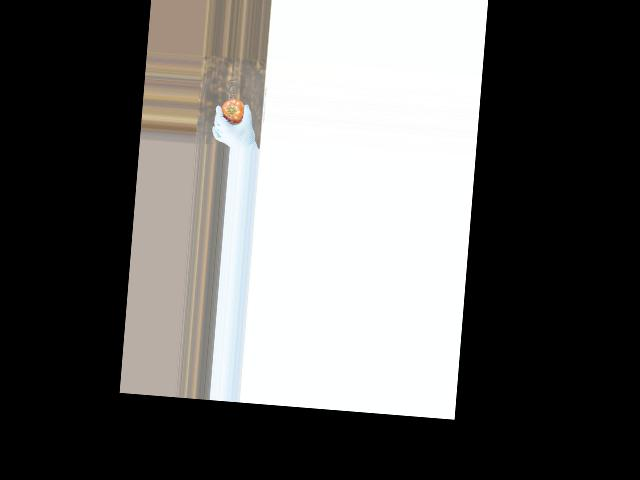tomato: (220, 97, 245, 124)
